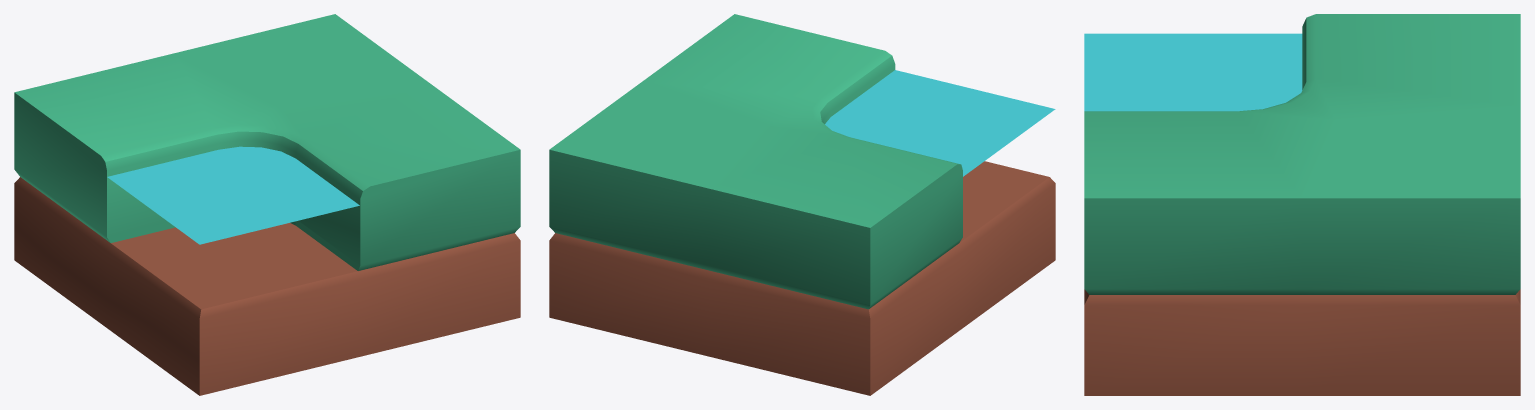
Rendered from square_forest_waterInnerCorner_noSides.glb.
3 renders of one model, left to right at view 1: azimuth 30°, elevation 25°; view 2: azimuth 150°, elevation 25°; view 3: azimuth 270°, elevation 25°, orthographic. The views are drawn at different scales.
Visible parts, largest first — view 1: square_forest_waterInnerCorner_noSides; view 2: square_forest_waterInnerCorner_noSides; view 3: square_forest_waterInnerCorner_noSides.
Boxes of the visible parts, x1,y1,x2,y2 form: square_forest_waterInnerCorner_noSides: (14, 14, 520, 395); square_forest_waterInnerCorner_noSides: (549, 14, 1055, 395); square_forest_waterInnerCorner_noSides: (1084, 14, 1520, 395).
Bounding box in the file's own units: 3.43 × 1.72 × 3.43.
